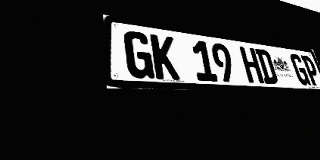1: (190, 39, 218, 82)
9: (210, 42, 237, 82)
D: (255, 49, 279, 84)
G: (123, 30, 155, 79), (289, 53, 311, 85)
H: (239, 46, 264, 83)
K: (150, 34, 180, 80)
P: (300, 55, 320, 86)
